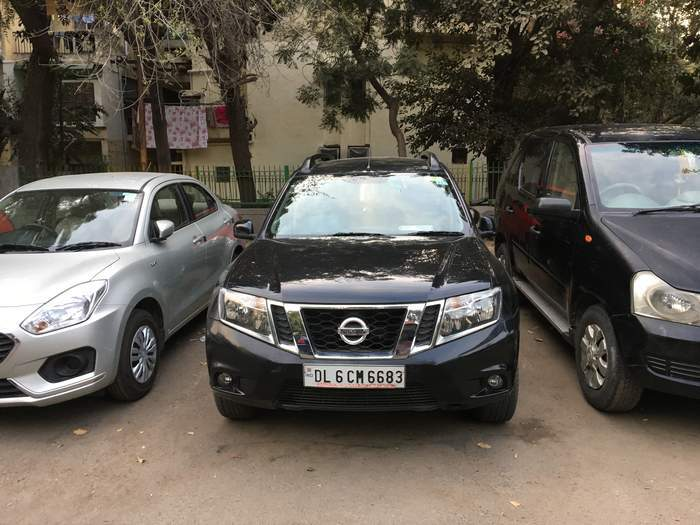number_plate: (303, 360, 410, 396)
